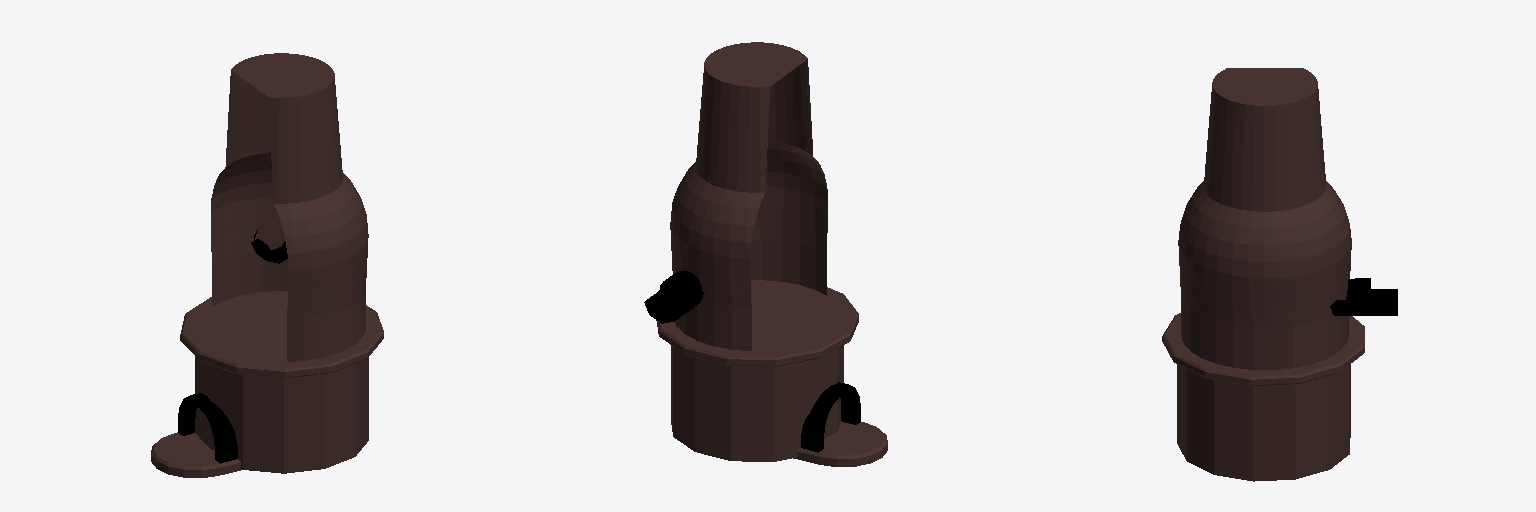
Rendered from SmelteryOutline.obj.
3 views of the same model, side by side, from view 1: azimuth 30°, elevation 25°; view 2: azimuth 150°, elevation 25°; view 3: azimuth 270°, elevation 25° (orthographic).
Visible parts, largest first — view 1: Sphere.002, Cylinder.011_Cylinder.009, Cylinder.009_Cylinder.013, Cylinder.010_Cylinder.004, Cylinder.006, Cylinder.005; view 2: Sphere.002, Cylinder.009_Cylinder.013, Cylinder.011_Cylinder.009, Cylinder.010_Cylinder.004, Cylinder.006, Cylinder.005, Cylinder, Cylinder.008; view 3: Sphere.002, Cylinder.009_Cylinder.013, Cylinder.011_Cylinder.009, Cylinder.010_Cylinder.004, Cylinder, Cylinder.008.
Boxes of the visible parts, x1,y1,x2,y2 form: Sphere.002: [211, 53, 368, 361]; Cylinder.011_Cylinder.009: [180, 291, 383, 377]; Cylinder.009_Cylinder.013: [195, 357, 326, 473]; Cylinder.010_Cylinder.004: [195, 356, 368, 469]; Cylinder.006: [151, 432, 241, 477]; Cylinder.005: [178, 393, 237, 463]; Sphere.002: [670, 42, 827, 350]; Cylinder.009_Cylinder.013: [671, 345, 843, 461]; Cylinder.011_Cylinder.009: [656, 280, 858, 366]; Cylinder.010_Cylinder.004: [773, 345, 843, 460]; Cylinder.006: [793, 421, 887, 466]; Cylinder.005: [801, 382, 860, 452]; Cylinder: [644, 284, 704, 323]; Cylinder.008: [659, 271, 701, 298]; Sphere.002: [1178, 68, 1351, 369]; Cylinder.009_Cylinder.013: [1177, 364, 1350, 481]; Cylinder.011_Cylinder.009: [1162, 313, 1364, 385]; Cylinder.010_Cylinder.004: [1177, 364, 1213, 474]; Cylinder: [1330, 289, 1397, 315]; Cylinder.008: [1348, 278, 1370, 304].
Bounding box in the file's own units: 2.61 × 4.24 × 2.49.